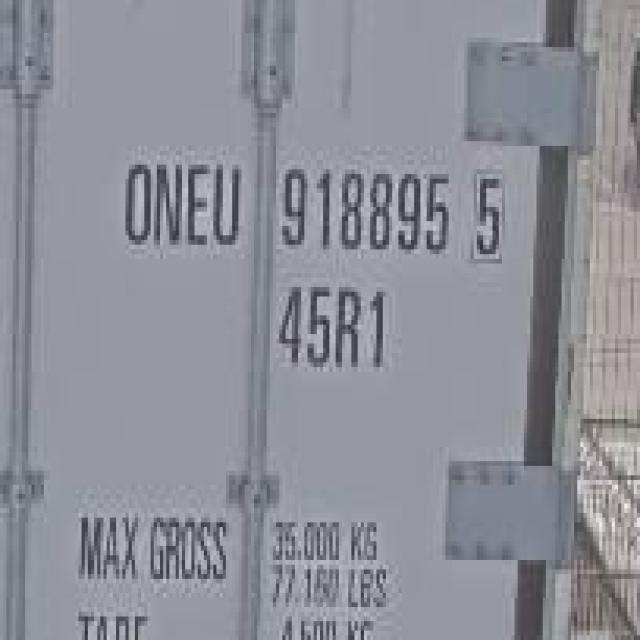dv: (463, 158, 509, 268)
owner: (116, 145, 245, 253)
serial: (272, 155, 454, 260)
size: (272, 275, 395, 377)
